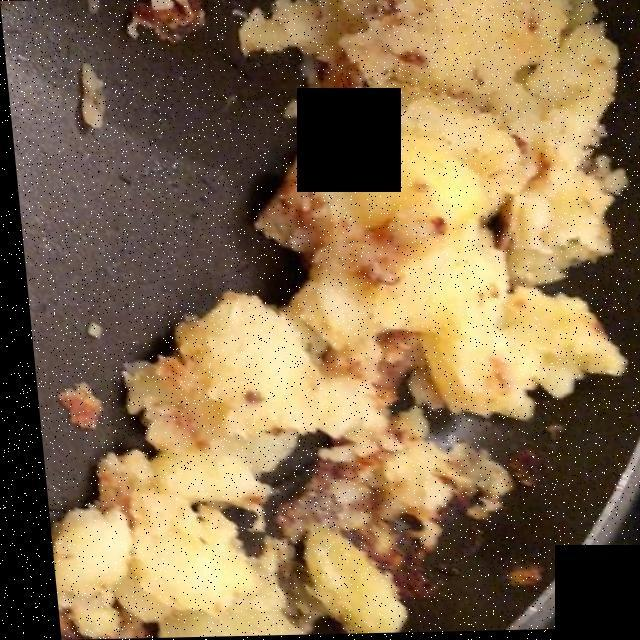mashed-potatoes: (66, 5, 619, 624)
